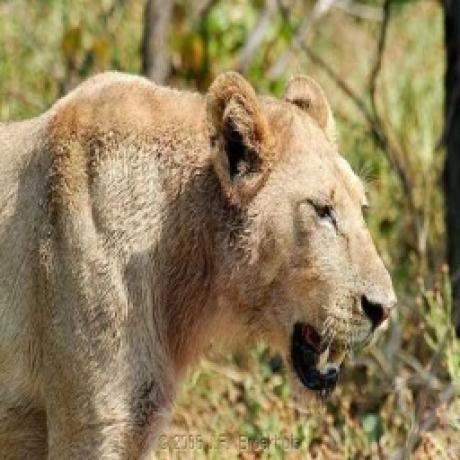Lion: (0, 64, 397, 460)
